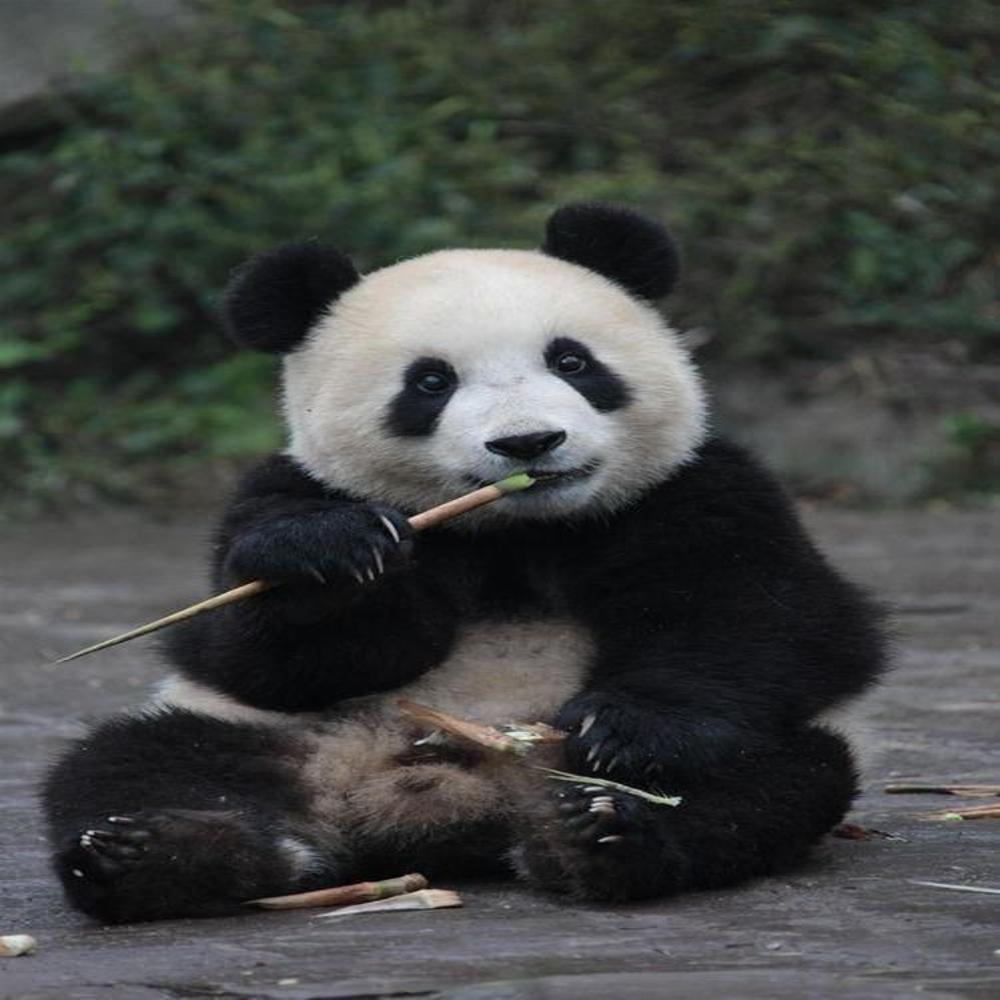panda: (57, 200, 888, 939)
